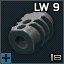Glock 9x19 Lone Wolf LWD-COMP9 compensator: (0, 0, 64, 64)
